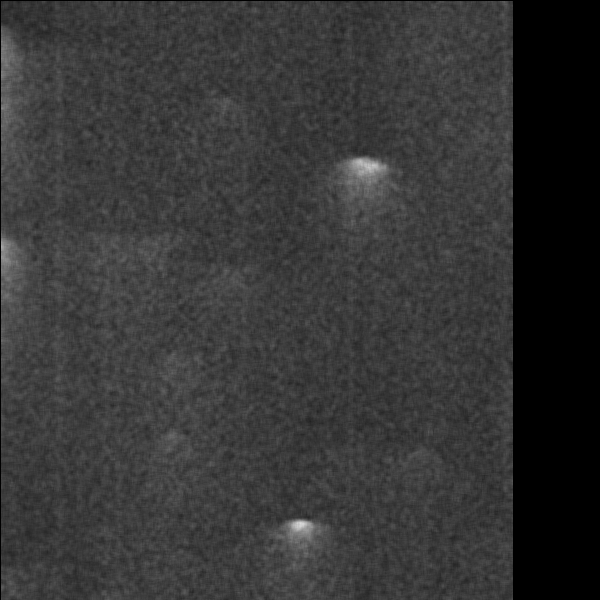spark: (338, 463, 393, 496)
